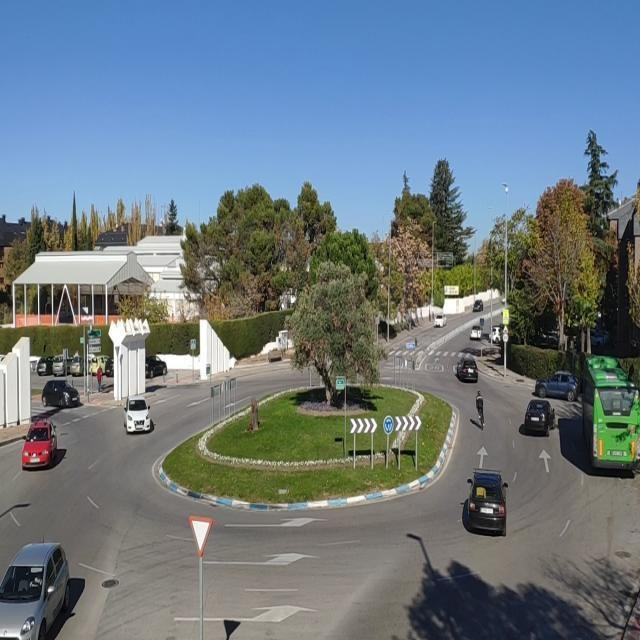Bus: (579, 352, 640, 470)
Car: (0, 541, 69, 639), (464, 468, 508, 536), (22, 418, 59, 468), (535, 370, 579, 400), (522, 399, 556, 435), (42, 380, 81, 408), (124, 397, 152, 434), (456, 358, 478, 382), (68, 354, 90, 377), (145, 356, 167, 378), (51, 354, 72, 377), (90, 354, 111, 375), (591, 328, 610, 348), (36, 355, 54, 376), (491, 324, 508, 344), (105, 354, 114, 376), (470, 325, 482, 341), (434, 314, 446, 328), (472, 299, 483, 312)
Cycle: (475, 402, 486, 432)
